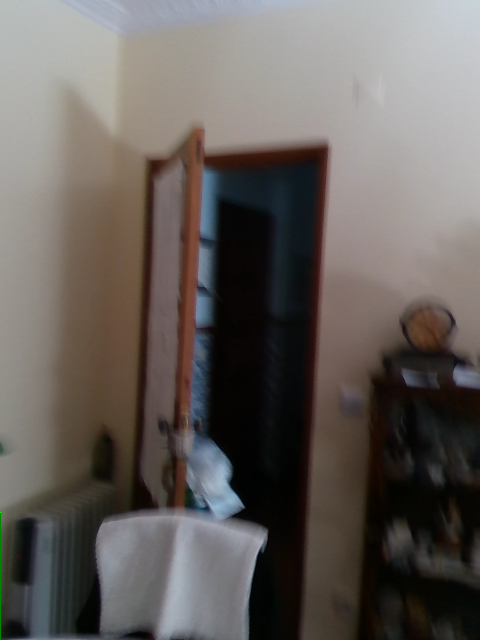semi: (127, 126, 330, 634)
